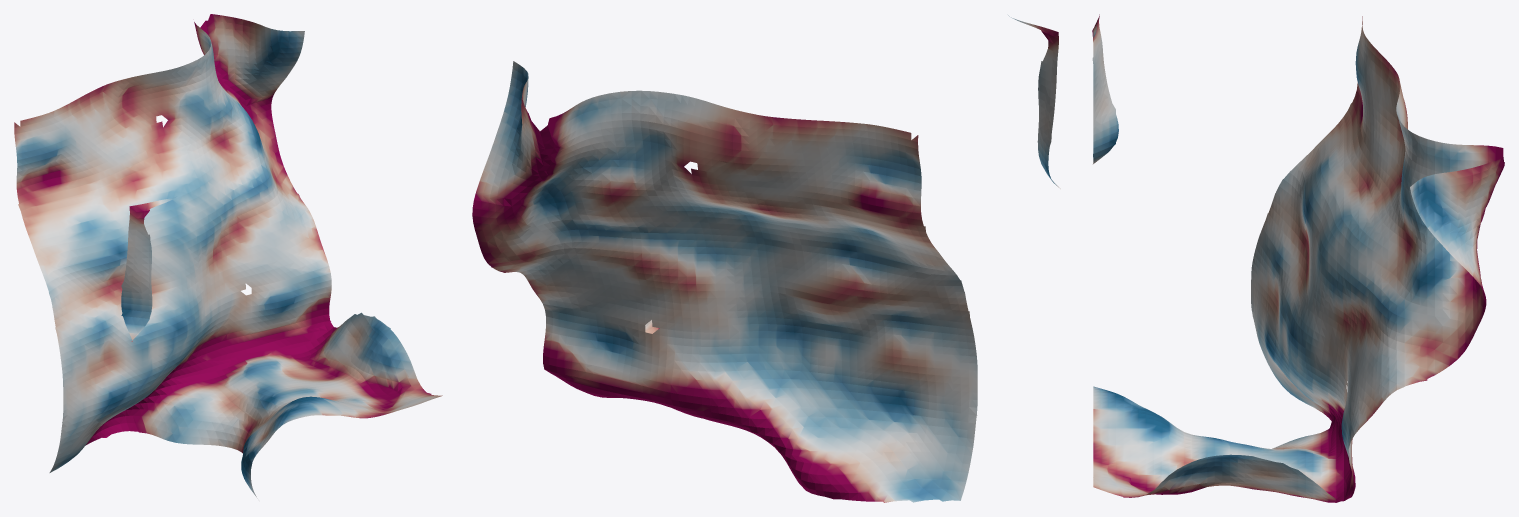
File: crop1035_deviation.glb
3 views of the same model, side by side, from view 1: azimuth 30°, elevation 25°; view 2: azimuth 150°, elevation 25°; view 3: azimuth 270°, elevation 25° (orthographic). The views are drawn at different scales.
Visible parts, largest first — view 1: world; view 2: world; view 3: world.
Part boxes in pixels (left/top/right/bottom): world: left=14, top=14, right=442, bottom=498; world: left=472, top=15, right=1060, bottom=502; world: left=1092, top=14, right=1504, bottom=502.
Size of the model in its own units: 871 by 871 by 870.
